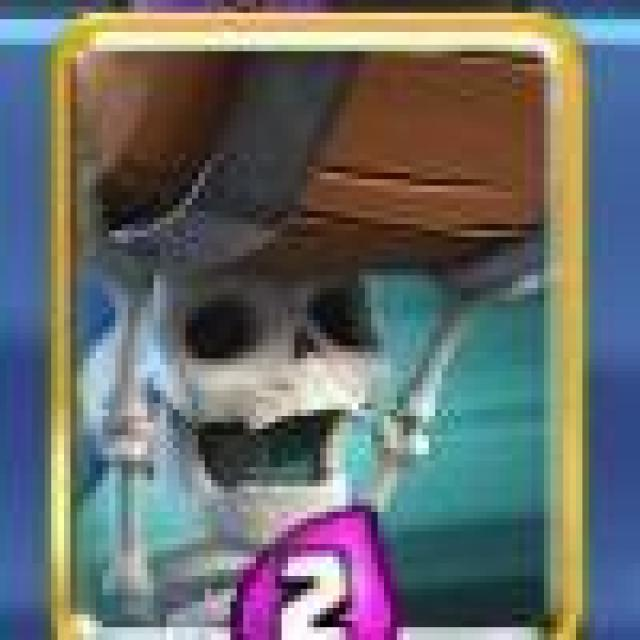Wall_Breakers: (51, 15, 586, 640)
